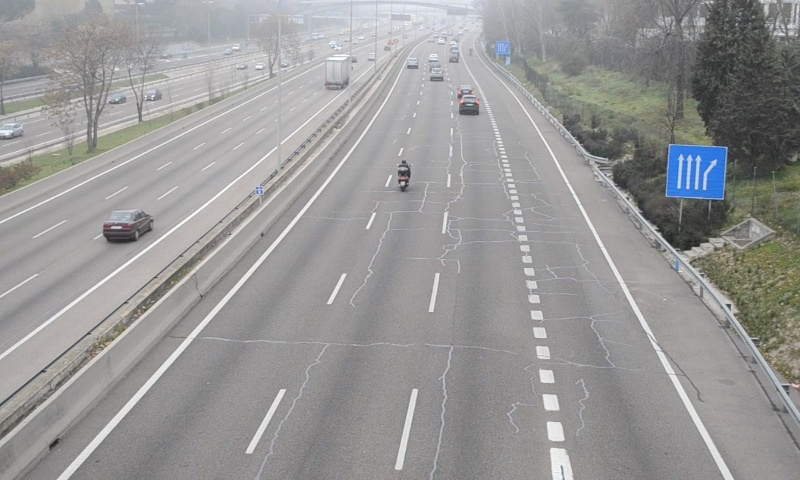car: (459, 94, 480, 115)
motorcycle: (396, 159, 411, 190)
